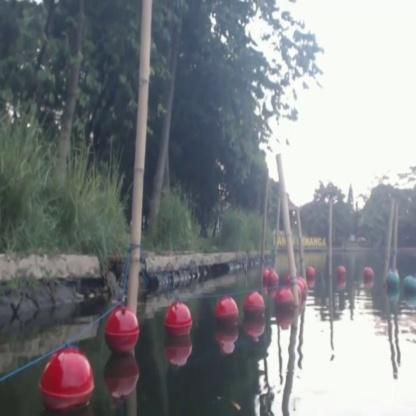green_buoy: (384, 270, 400, 298), (402, 272, 415, 298)
red_buoy: (38, 350, 95, 415), (107, 310, 138, 356), (164, 305, 190, 337), (243, 292, 266, 324), (217, 298, 238, 332), (272, 288, 294, 319), (262, 266, 278, 286), (362, 262, 374, 284), (297, 275, 306, 302), (335, 264, 347, 284), (305, 264, 316, 281)
